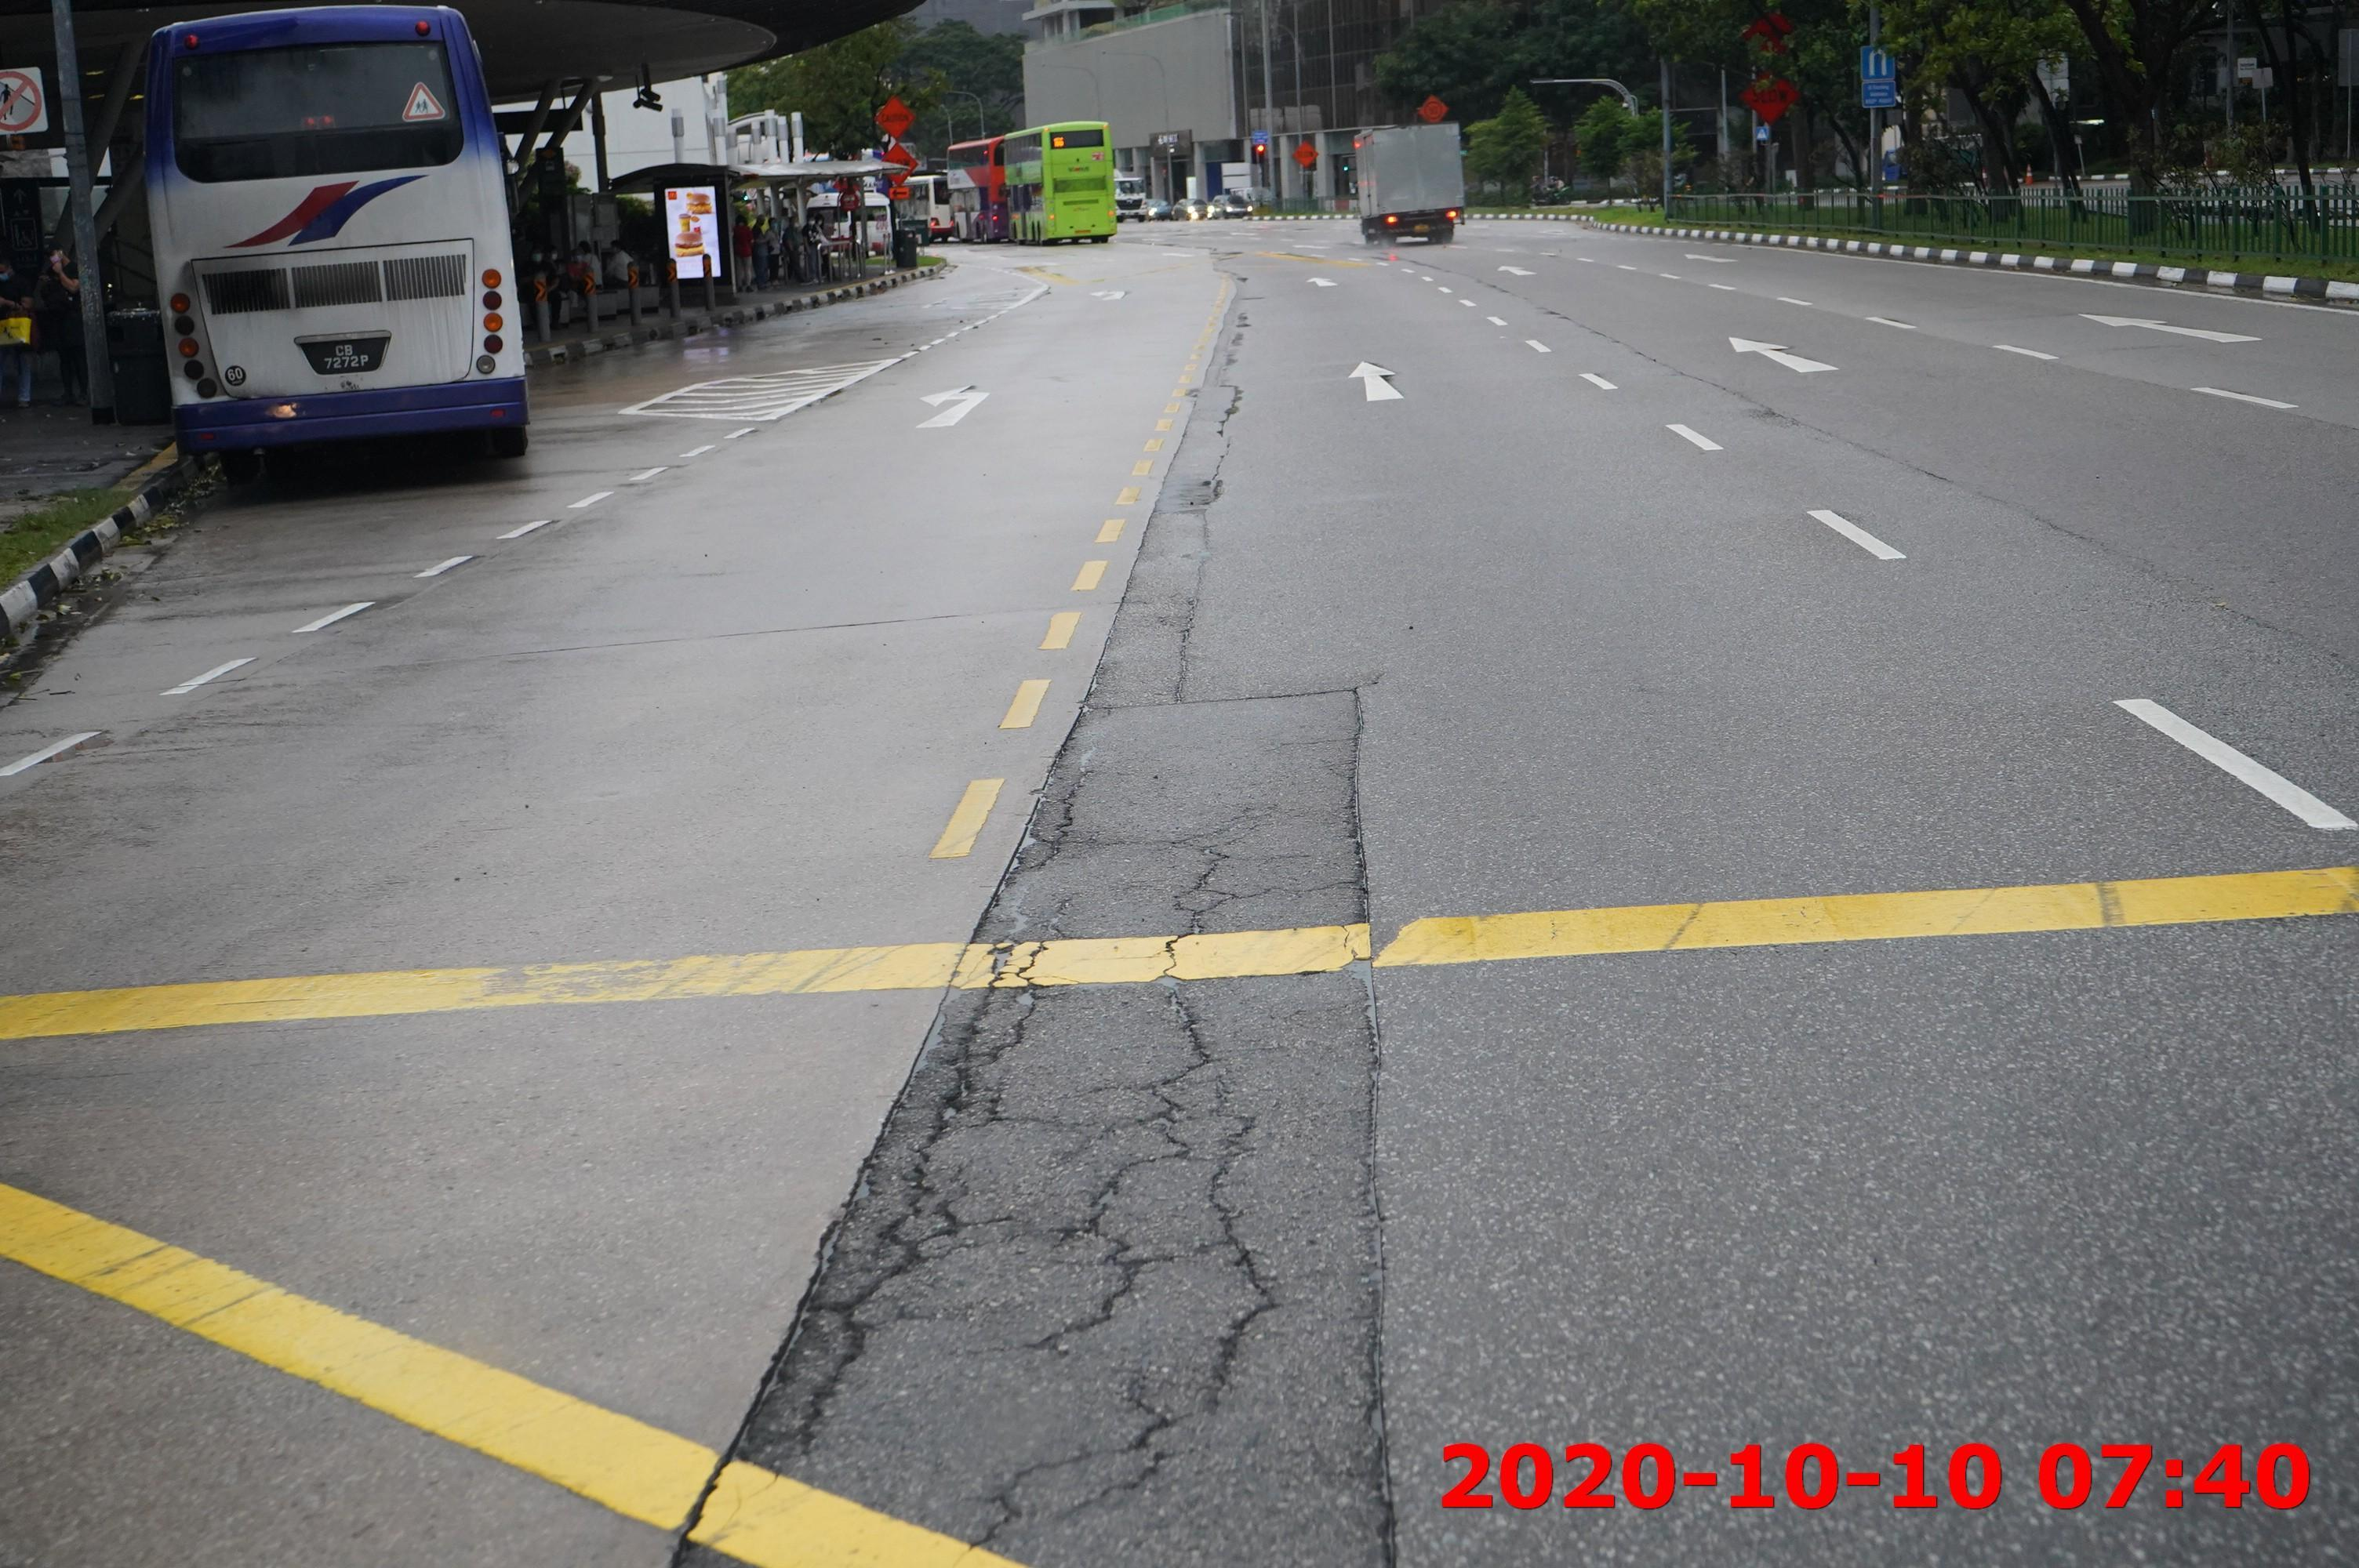alligator crack: (761, 887, 1360, 1542)
single crack: (1607, 303, 2359, 690)
